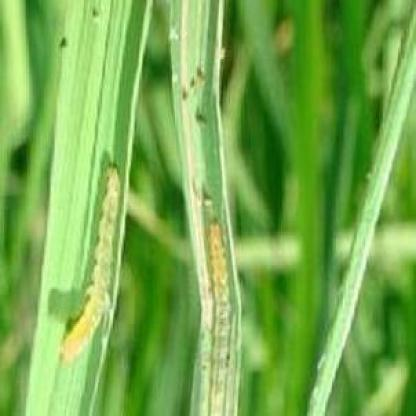leaf-folder: (55, 151, 133, 374), (190, 215, 253, 407)
